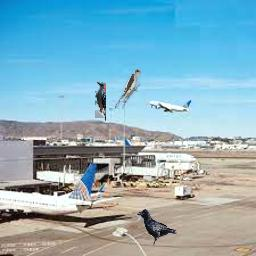Crow: (137, 209, 177, 246)
Cuckoo: (115, 69, 141, 109)
Woodpecker: (95, 81, 106, 121)
